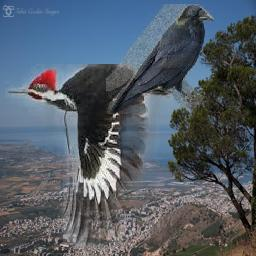Crow: (106, 4, 214, 114)
Woodpecker: (5, 65, 173, 250)
